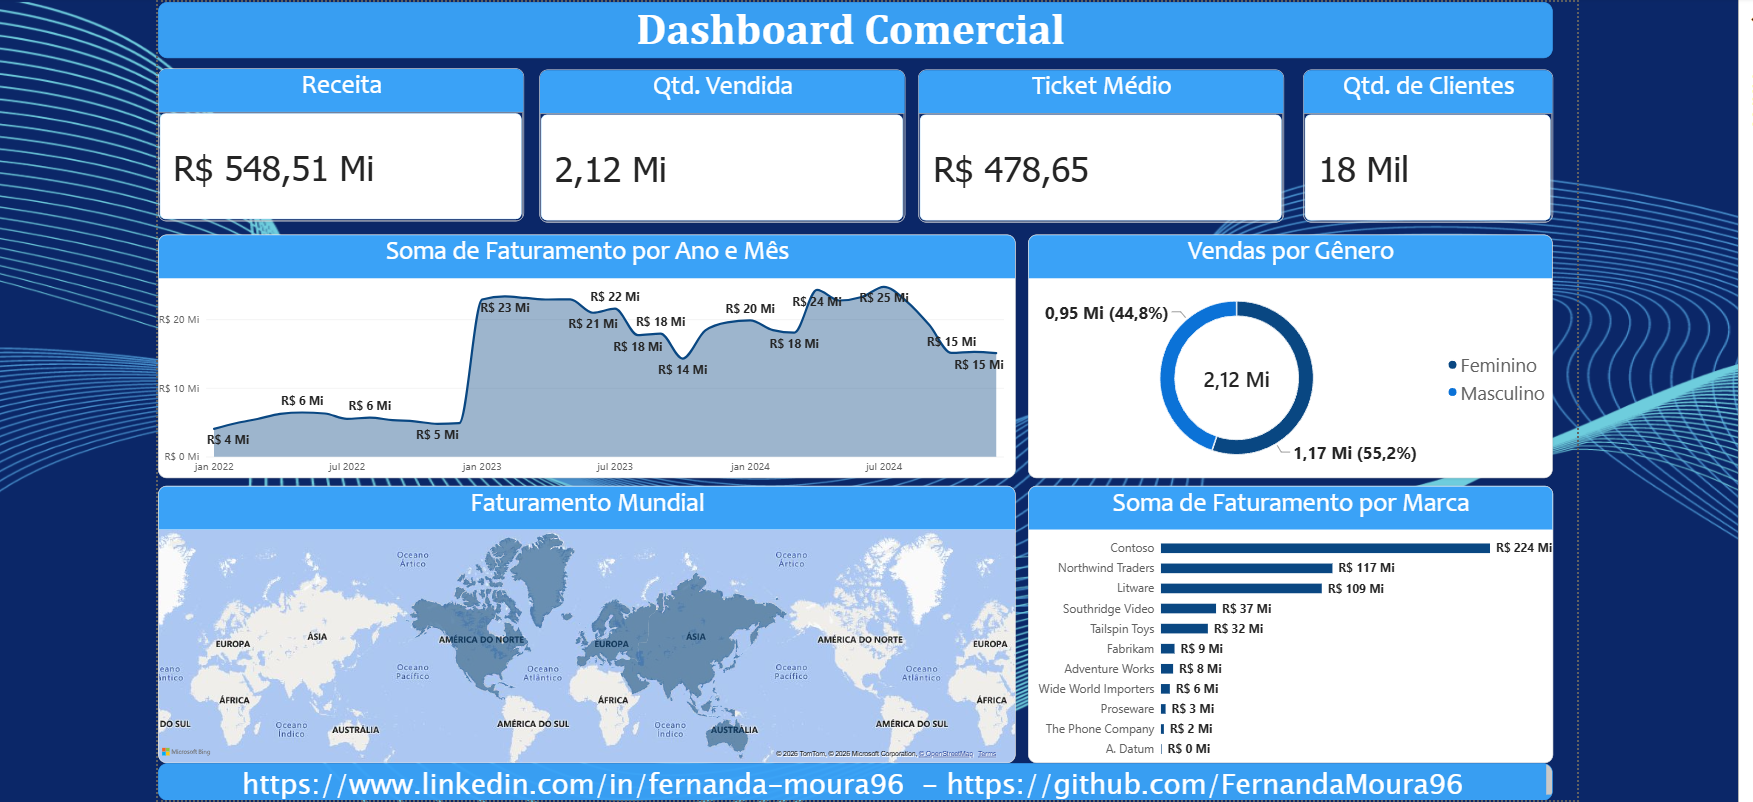

The page's visual inventory and layout, read from the dashboard file:
{"tool":"powerbi","page":{"name":"Página 1","canvas":[1920,1080],"ordinal":0},"visuals":[{"type":"cardVisual","title":"Qtd. Vendida ","fields":{"Data":["Sum(Base Vendas.Qtd. Vendida)"]},"box":[516.3,90.7,495.4,207.6],"z":0},{"type":"cardVisual","title":"Receita","fields":{"Data":["Sum(Base Vendas.Faturamento )"]},"box":[0,93,495.4,207.6],"z":1000},{"type":"cardVisual","title":"Ticket Médio","fields":{"Data":["Base Vendas.ticket médio","Base Vendas.ticket médio"]},"box":[1027.3,90.7,495.4,207.6],"z":2000},{"type":"textbox","box":[0,0,1886.8,76.1],"z":3000},{"type":"cardVisual","title":"Qtd.  de Clientes","fields":{"Data":["Base Vendas.qtd. Cliente"]},"box":[1548.8,90.7,338.4,207.6],"z":4000},{"type":"areaChart","fields":{"Category":["Base Vendas.Data Venda.Variation.Hierarquia de datas.Ano","Base Vendas.Data Venda.Variation.Hierarquia de datas.Mês"],"Y":["Sum(Base Vendas.Faturamento )"]},"box":[0,314,1159.9,329.7],"z":5000},{"type":"donutChart","title":"Vendas por Gênero","fields":{"Category":["Clientes.Genero"],"Y":["Base Vendas.total_vendas"]},"box":[1177.3,314,709.9,329.7],"z":6000},{"type":"filledMap","title":"Faturamento Mundial","fields":{"Category":["Loja.Continente"]},"box":[0,654.3,1159.8,375.3],"z":7000},{"type":"barChart","fields":{"Category":["Produto.Marca"],"Y":["Sum(Base Vendas.Faturamento )"]},"box":[1176.7,654.3,710.1,375.3],"z":8000},{"type":"textbox","box":[0,1029.6,1886.8,50.7],"z":9000}]}

Visuals, with their boxes in screenshot pixels (x1, y1, x2, y2):
"Qtd. Vendida " cardVisual: 543 67 907 219
"Receita" cardVisual: 164 68 528 221
"Ticket Médio" cardVisual: 918 67 1281 219
textbox: 164 0 1549 56
"Qtd.  de Clientes" cardVisual: 1301 67 1549 219
areaChart - Base Vendas.Data Venda.Variation.Hierarquia de datas.Ano x Base Vendas.Data Venda.Variation.Hierarquia de datas.Mês: 164 230 1015 472
"Vendas por Gênero" donutChart: 1028 230 1549 472
"Faturamento Mundial" filledMap: 164 480 1015 755
barChart - Produto.Marca x Sum(Base Vendas.Faturamento ): 1028 480 1549 755
textbox: 164 755 1549 793
